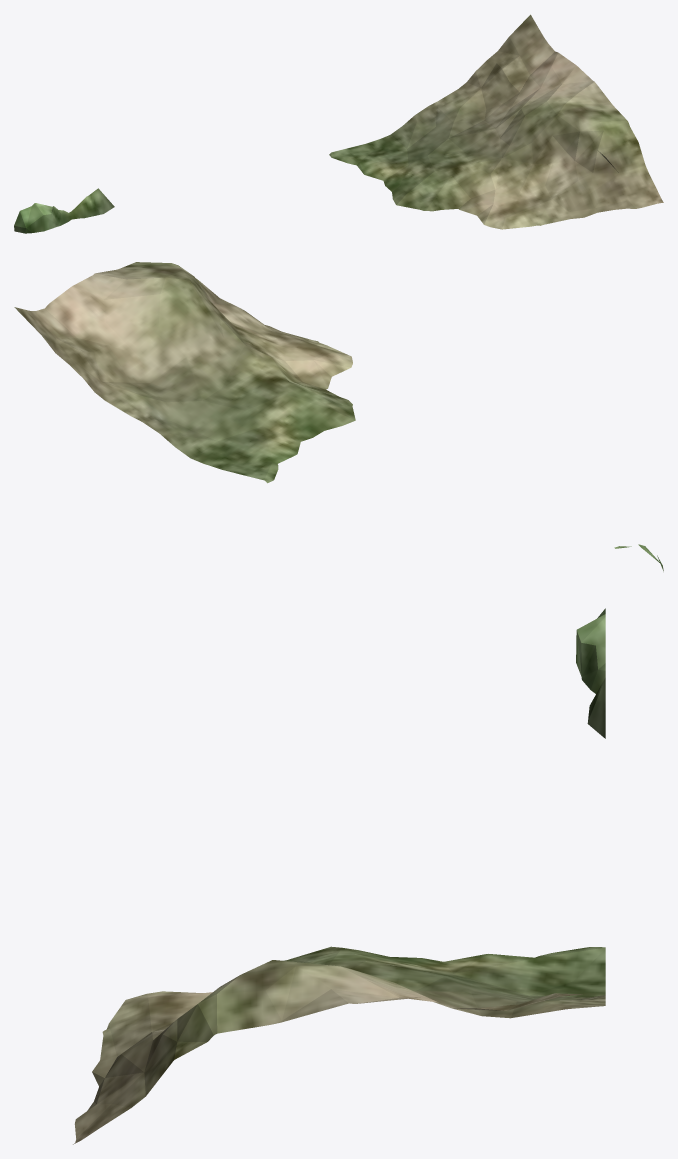
3 renders of one model, top to bottom at view 1: azimuth 30°, elevation 25°; view 2: azimuth 150°, elevation 25°; view 3: azimuth 270°, elevation 25°, orthographic. The views are drawn at different scales.
Size of the model in its own units: 5.05 by 0.8505 by 2.26.
Materials: 1 (1 with a texture image).
